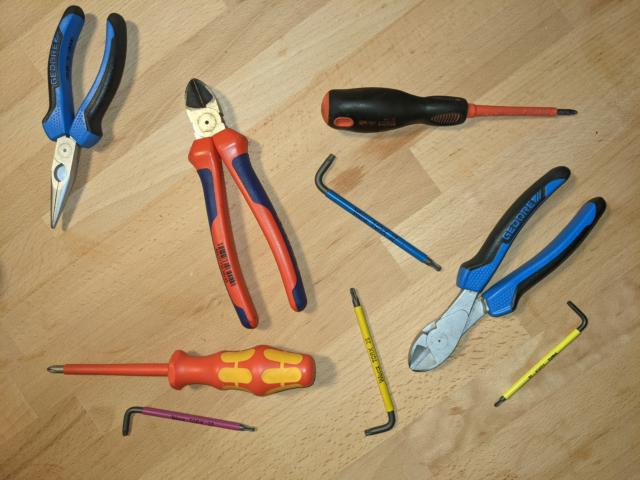Inbusschlüssel: (311, 150, 445, 274), (490, 299, 590, 410), (345, 284, 400, 437), (119, 404, 258, 439)
Schraubendreher: (44, 341, 319, 401), (319, 83, 581, 137)
Seitenschneider: (404, 163, 609, 376), (181, 74, 311, 331)
Zange: (38, 4, 131, 233)
